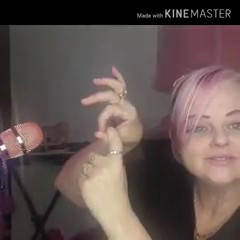Q: (76, 61, 152, 220)
